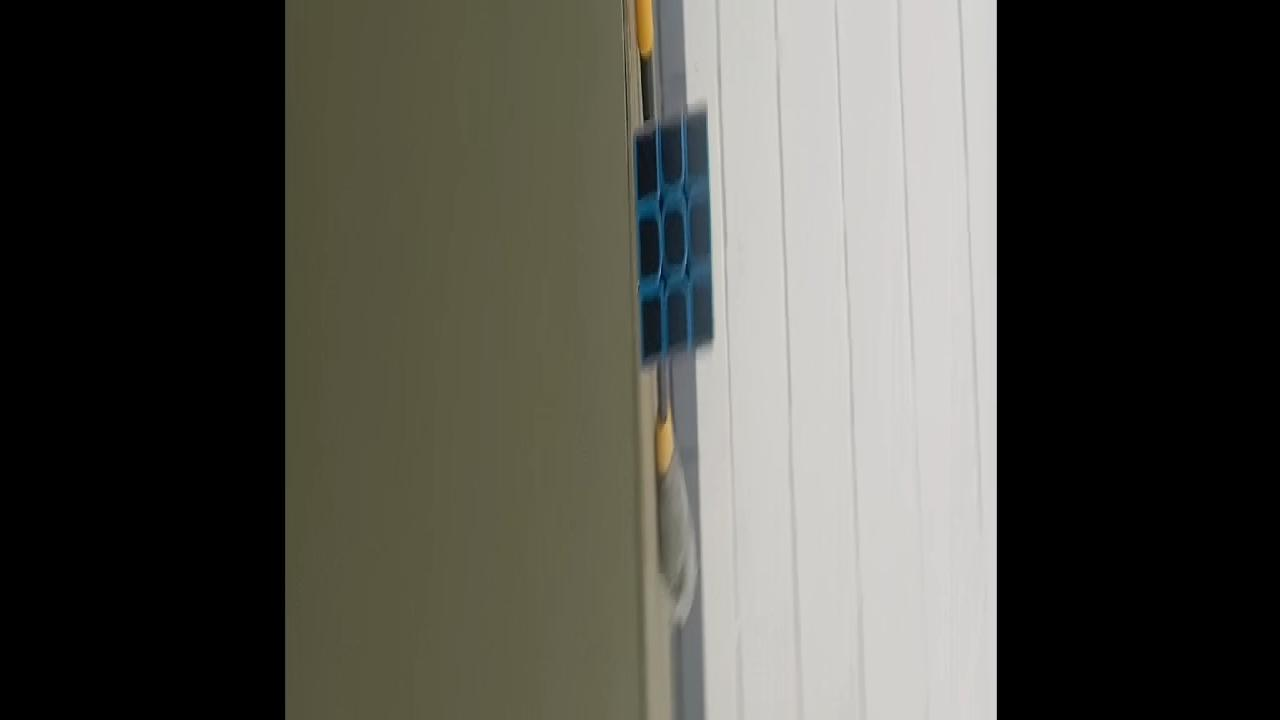Cube: (631, 101, 716, 371)
